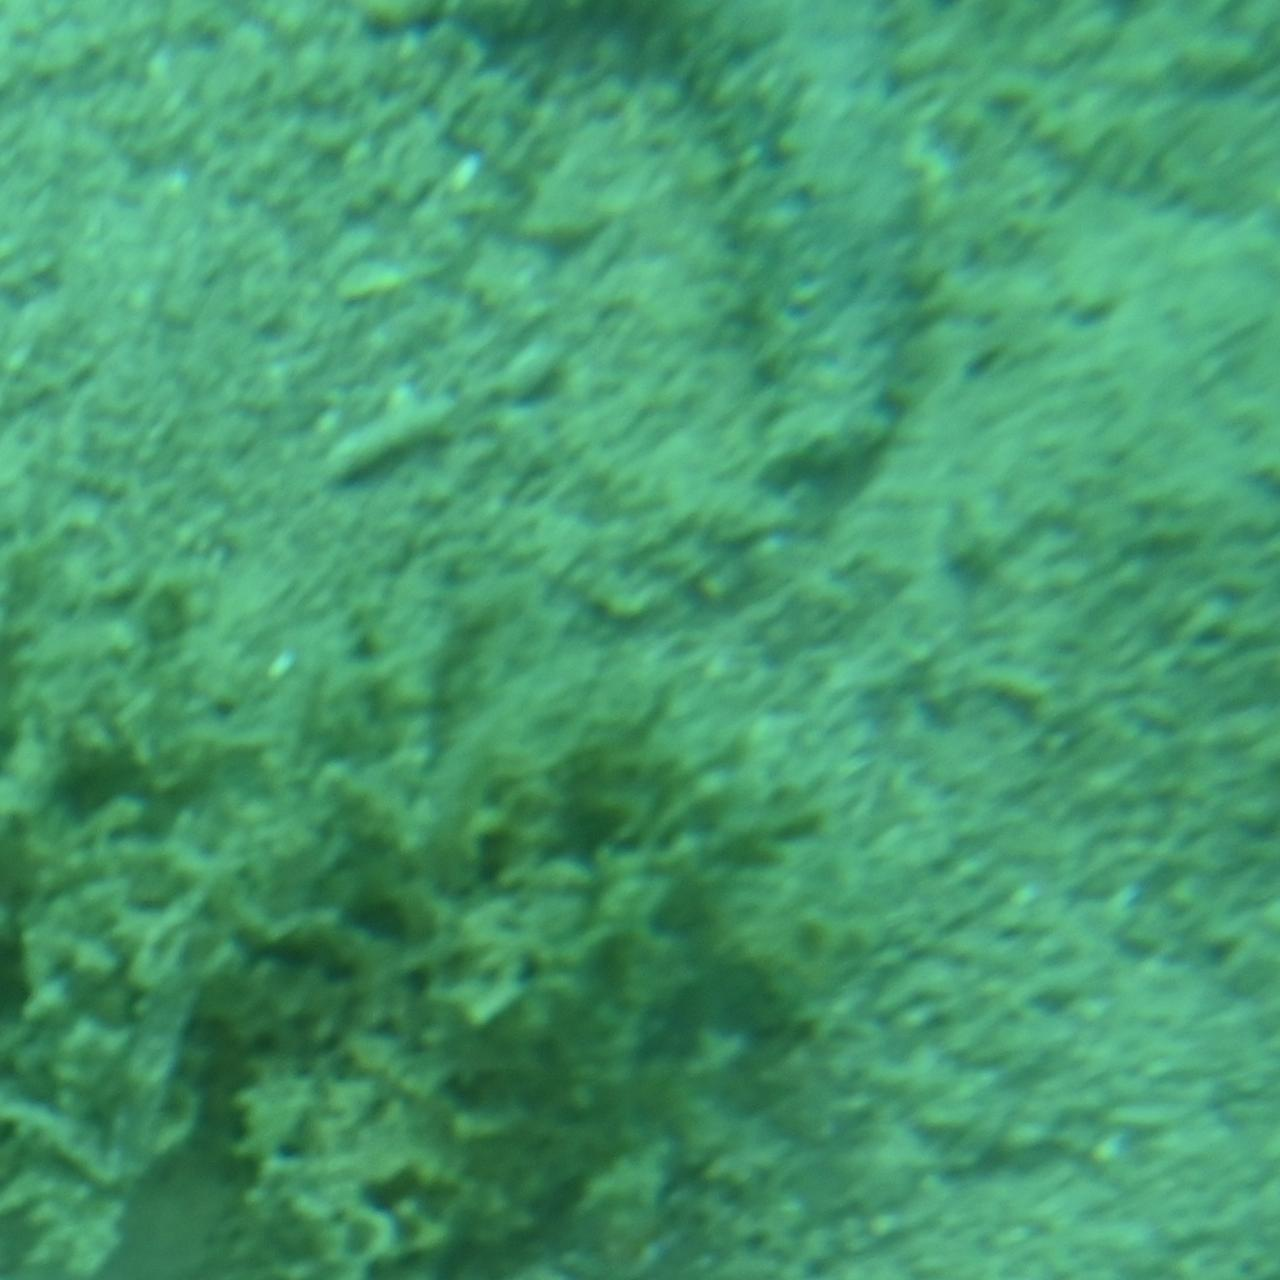Holothuria tubulosa: (338, 0, 942, 477)
